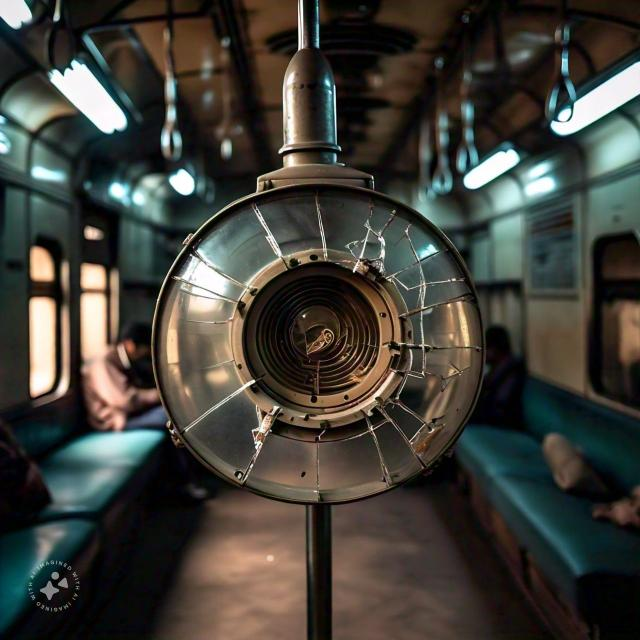Lights: (140, 169, 492, 509)
